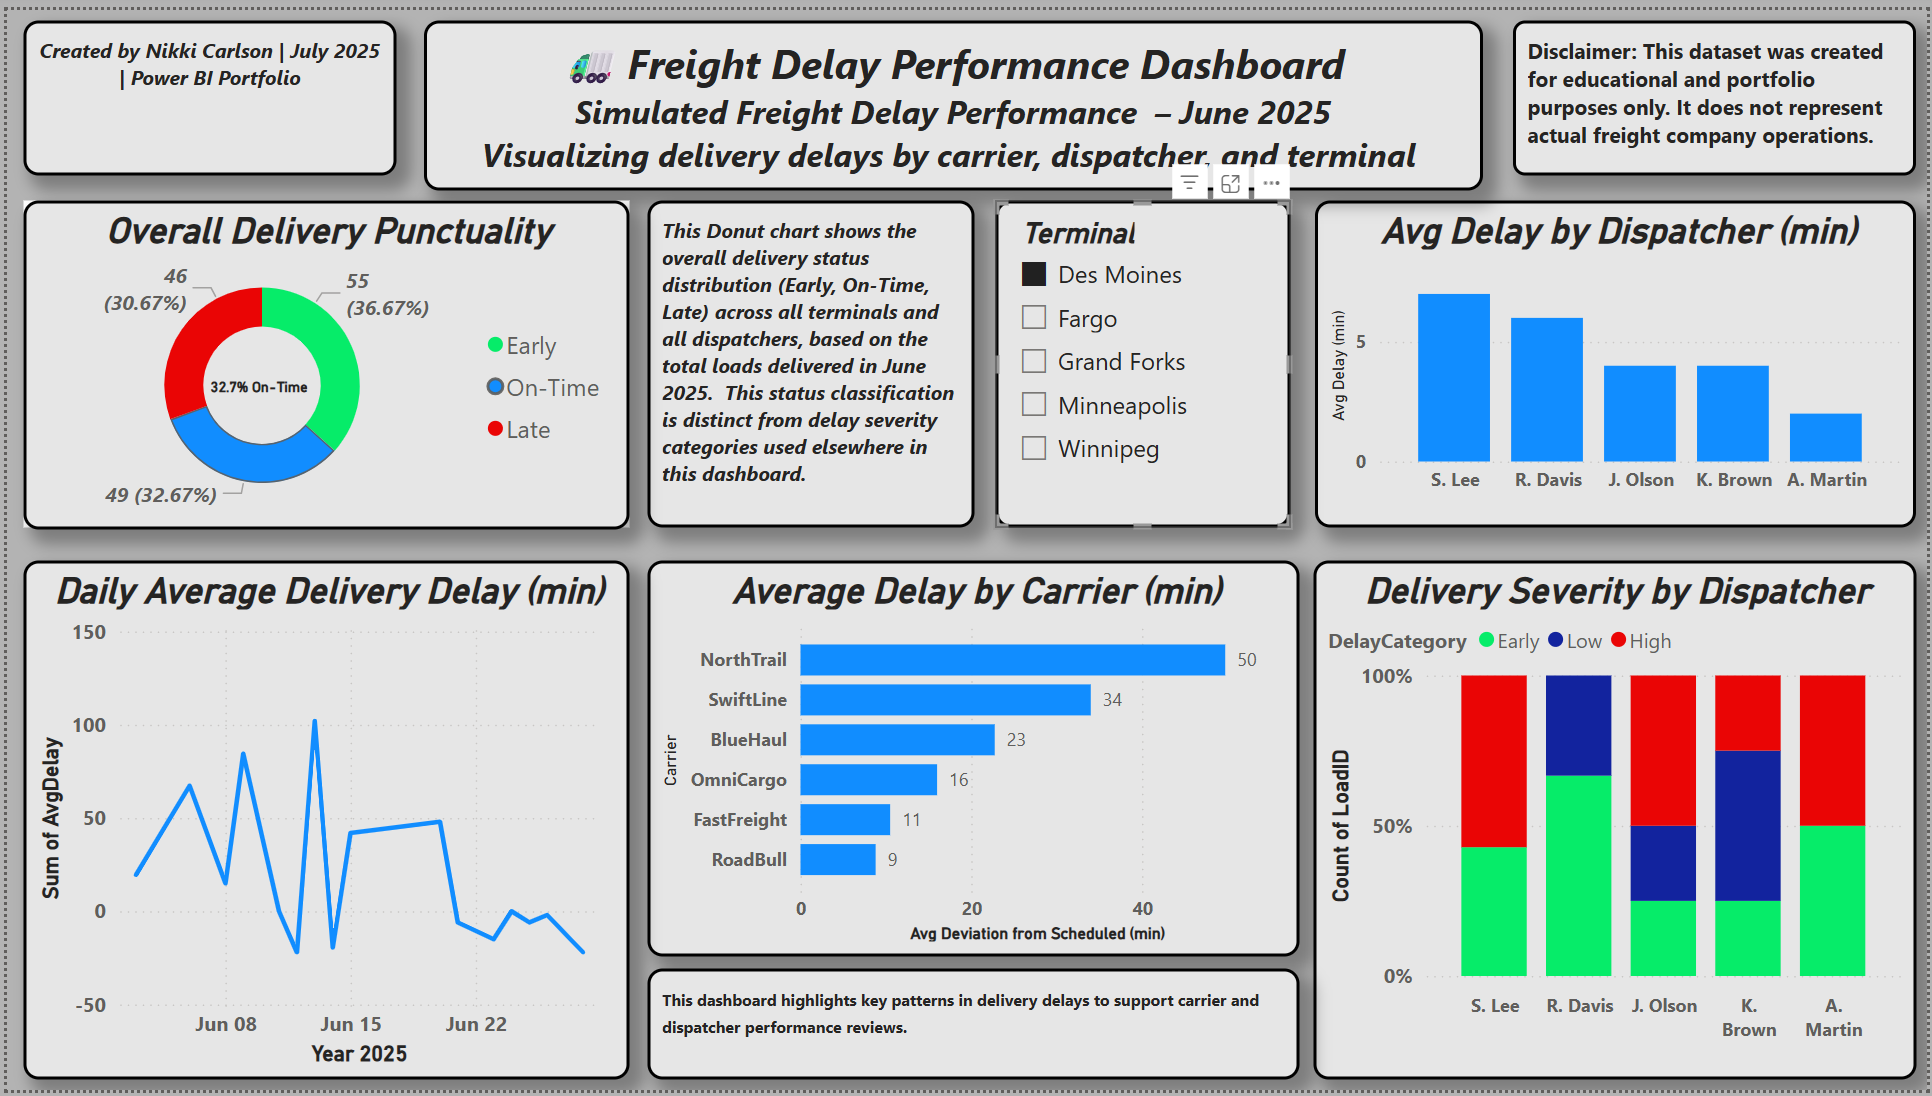

The dashboard page shown, as its layout file describes it:
{"tool":"powerbi","page":{"name":"Page 1","canvas":[1280,720],"ordinal":0},"visuals":[{"type":"clusteredBarChart","title":"Average Delay by Carrier (min)","fields":{"Y":["Sum(carrier_delay_summary_dax.AvgDelay)"],"Category":["carrier_delay_summary_dax.Carrier"]},"box":[427.1,366.7,434.6,264.4],"z":0},{"type":"clusteredColumnChart","title":"Avg Delay by Dispatcher (min)","fields":{"Category":["dispatcher_delay_summary_dax.Dispatcher"],"Y":["Sum(dispatcher_delay_summary_dax.TotalLoads)"]},"box":[871.7,126.6,401.6,218.9],"z":1000},{"type":"lineChart","title":"Daily Average Delivery Delay (min)","fields":{"Category":["daily_delay_trend_dax.DeliveryDate.Variation.Date Hierarchy.Year","daily_delay_trend_dax.DeliveryDate.Variation.Date Hierarchy.Quarter","daily_delay_trend_dax.DeliveryDate.Variation.Date Hierarchy.Month","daily_delay_trend_dax.DeliveryDate.Variation.Date Hierarchy.Day"],"Y":["Sum(daily_delay_trend_dax.AvgDelay)"]},"box":[10.6,366.7,404.1,346.1],"z":2000},{"type":"textbox","box":[278.1,6.9,705.9,112.9],"z":3000},{"type":"hundredPercentStackedColumnChart","title":"Delivery Severity by Dispatcher","fields":{"Category":["freight_delay_data.Dispatcher"],"Y":["CountNonNull(freight_delay_data.LoadID)"],"Series":["DelayCategoryLookup.DelayCategory"]},"box":[871.1,366.7,402.2,346.1],"z":4000},{"type":"textbox","box":[427.1,126.6,217.6,218.9],"z":5000},{"type":"textbox","box":[1003.9,6.9,269.4,102.9],"z":6000},{"type":"slicer","fields":{"Values":["TerminalTable.Terminal"]},"box":[659.1,126.6,197,218.9],"z":7000},{"type":"donutChart","title":"Overall Delivery Punctuality","fields":{"Category":["on_time_breakdown.Status"],"Y":["Sum(on_time_breakdown.TotalLoads)"]},"box":[10.6,126.6,404.1,218.9],"z":7500,"group":"g1"},{"type":"cardVisual","fields":{"Data":["on_time_breakdown.OnTimeLabel"]},"box":[95,215.4,146.5,61.7],"z":7750,"group":"g1"},{"type":"textbox","box":[10.6,6.9,249.4,102.9],"z":8000},{"type":"group","id":"g1","title":"Group 1","box":[10.6,126.6,404.1,218.9],"z":9000},{"type":"textbox","box":[427.1,638.5,434.6,74.2],"z":10000}]}

Visuals, with their boxes in screenshot pixels (x1, y1, x2, y2), scaled from the page's 1280x720 canvas onto the 1932x1096 screenshot:
"Average Delay by Carrier (min)" clusteredBarChart: <region>645, 558, 1301, 961</region>
"Avg Delay by Dispatcher (min)" clusteredColumnChart: <region>1316, 193, 1922, 526</region>
"Daily Average Delivery Delay (min)" lineChart: <region>16, 558, 626, 1085</region>
textbox: <region>420, 11, 1485, 182</region>
"Delivery Severity by Dispatcher" hundredPercentStackedColumnChart: <region>1315, 558, 1922, 1085</region>
textbox: <region>645, 193, 973, 526</region>
textbox: <region>1515, 11, 1922, 167</region>
slicer - TerminalTable.Terminal: <region>995, 193, 1292, 526</region>
"Overall Delivery Punctuality" donutChart: <region>16, 193, 626, 526</region>
cardVisual - on_time_breakdown.OnTimeLabel: <region>143, 328, 365, 422</region>
textbox: <region>16, 11, 392, 167</region>
"Group 1" group: <region>16, 193, 626, 526</region>
textbox: <region>645, 972, 1301, 1085</region>
